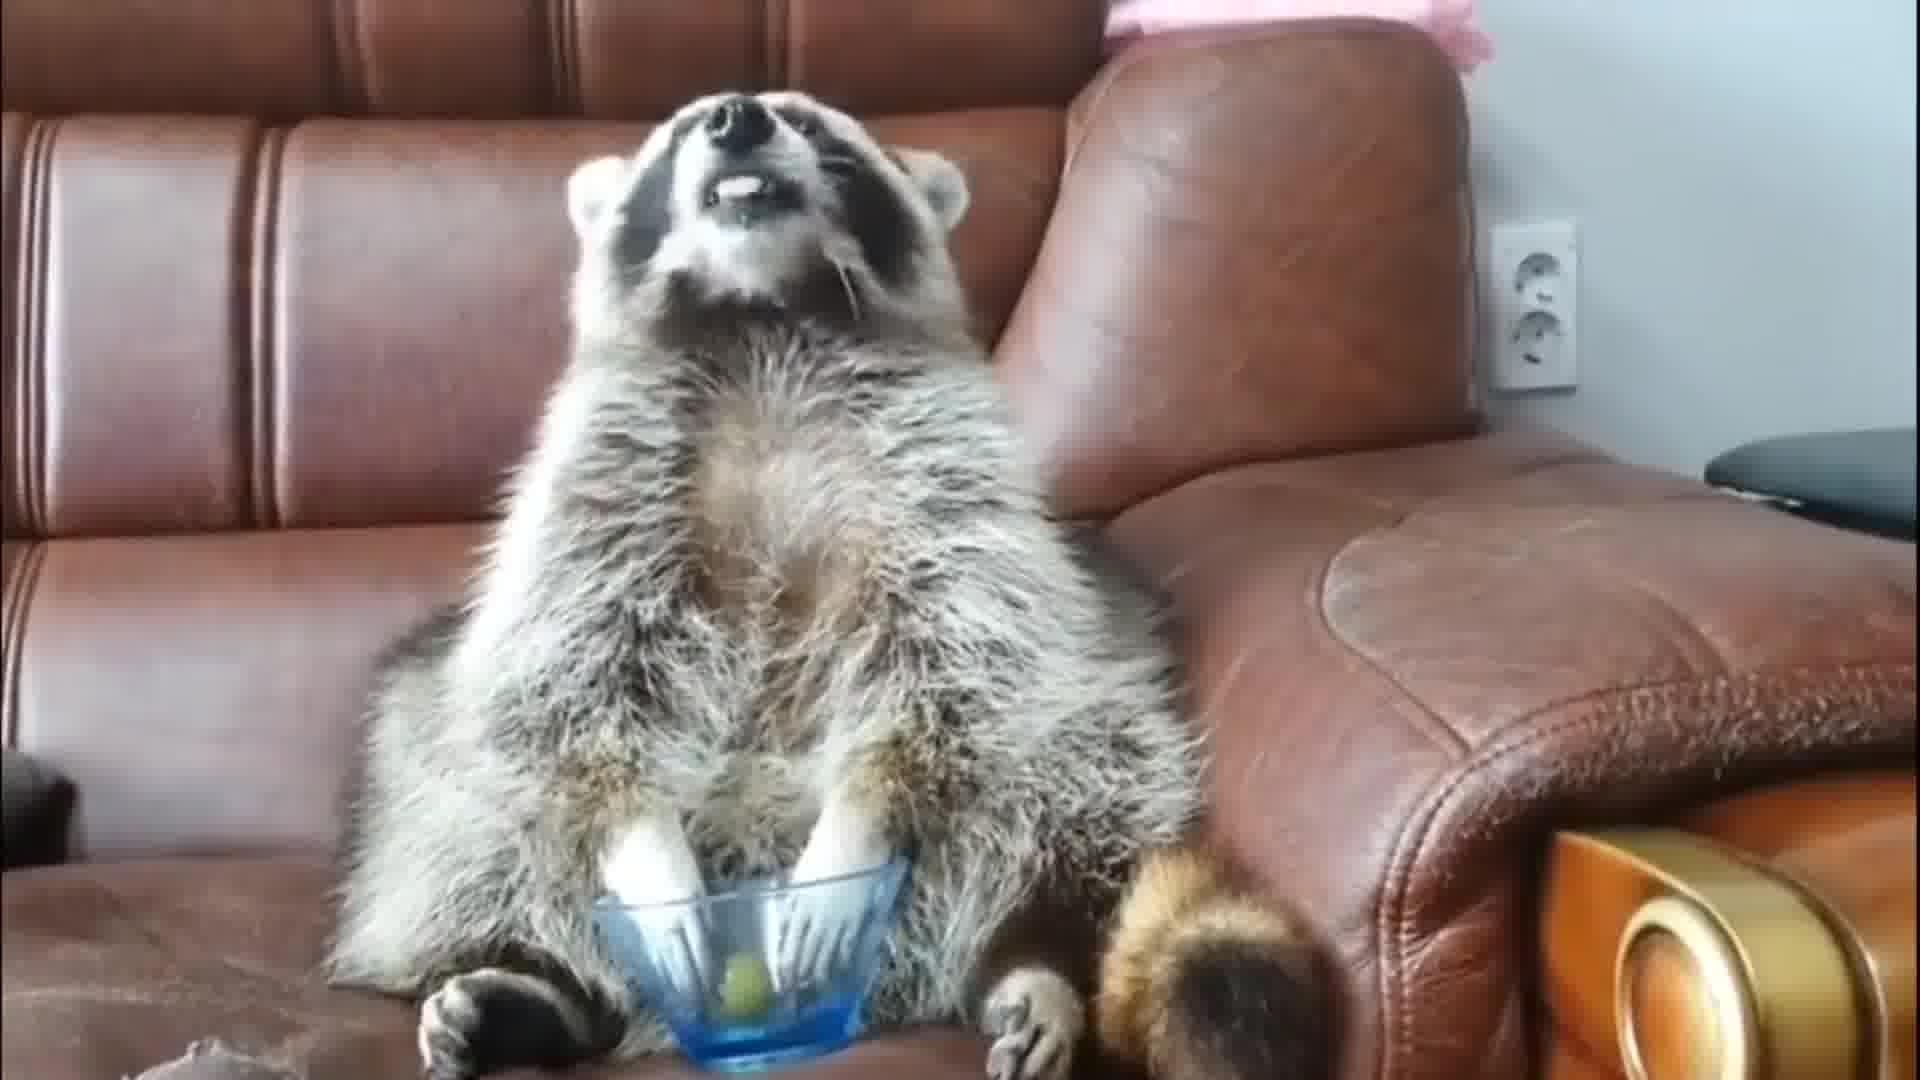raccoon: (313, 86, 1342, 1080)
